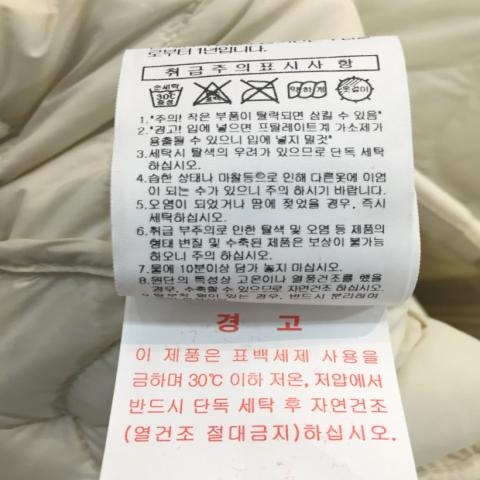DN_iron: (239, 74, 282, 105)
hand_wash: (146, 77, 186, 112)
line_dry_in_shade: (335, 72, 378, 105)
non_chlorine_bleach: (191, 73, 238, 108)
wring: (286, 77, 331, 102)
